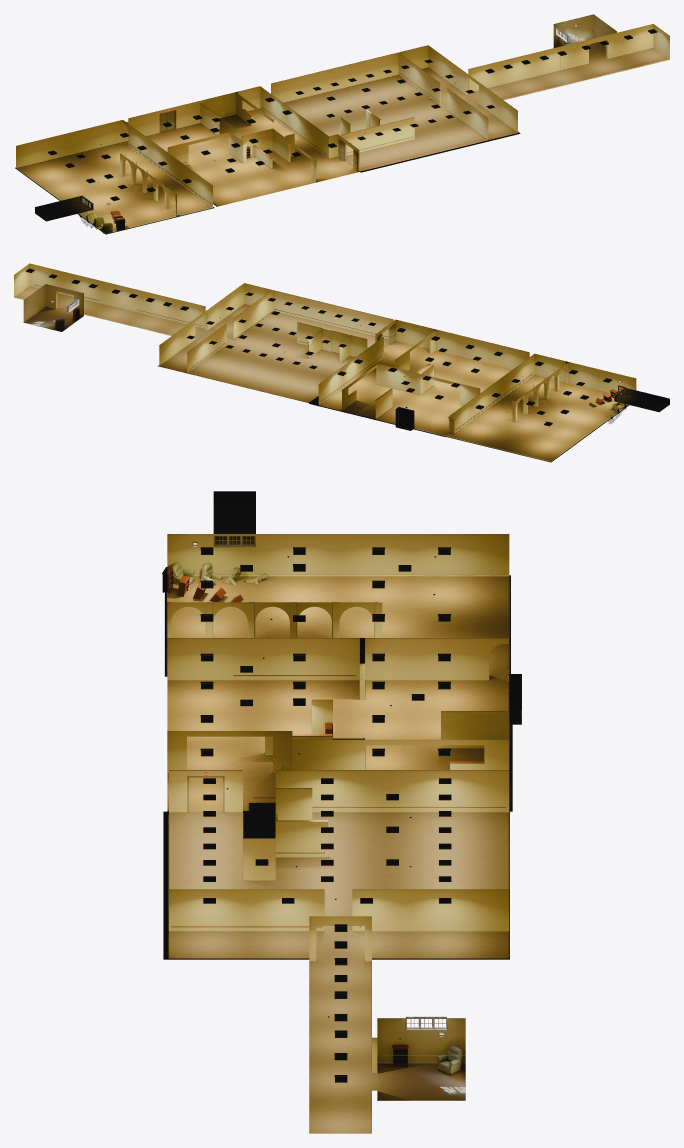
Rendered from backrooms_vr.glb.
The picture shows the model from 3 angles, top to bottom: view 1: azimuth 30°, elevation 25°; view 2: azimuth 150°, elevation 25°; view 3: azimuth 270°, elevation 25°; orthographic projection. The views are drawn at different scales.
Visible parts, largest first — view 1: Object_24, Object_18, Object_30, Object_28, Object_38, Object_34, Object_14, Object_22, Object_52, Object_36, Object_42, Object_44 (+2 smaller); view 2: Object_24, Object_30, Object_18, Object_28, Object_38, Object_14, Object_34, Object_22, Object_52, Object_36, Object_42, Object_32 (+2 smaller); view 3: Object_24, Object_18, Object_28, Object_38, Object_30, Object_34, Object_22, Object_52, Object_14, Object_44, Object_32, Object_6 (+2 smaller).
Boxes of the visible parts, x1=… form: Object_24: x1=283, y1=67, x2=520, y2=172; Object_18: x1=271, y1=45, x2=517, y2=155; Object_30: x1=15, y1=141, x2=214, y2=234; Object_28: x1=126, y1=108, x2=358, y2=206; Object_38: x1=125, y1=86, x2=359, y2=181; Object_34: x1=16, y1=120, x2=212, y2=221; Object_14: x1=468, y1=14, x2=669, y2=94; Object_22: x1=468, y1=38, x2=668, y2=102; Object_52: x1=48, y1=30, x2=656, y2=200; Object_36: x1=16, y1=14, x2=669, y2=233; Object_42: x1=129, y1=58, x2=665, y2=203; Object_44: x1=79, y1=37, x2=570, y2=233; Object_24: x1=158, y1=304, x2=389, y2=403; Object_30: x1=446, y1=374, x2=629, y2=462; Object_18: x1=159, y1=283, x2=393, y2=372; Object_28: x1=309, y1=341, x2=512, y2=437; Object_38: x1=318, y1=319, x2=529, y2=432; Object_14: x1=14, y1=263, x2=205, y2=330; Object_34: x1=449, y1=353, x2=669, y2=433; Object_22: x1=15, y1=286, x2=205, y2=338; Object_52: x1=26, y1=269, x2=611, y2=426; Object_36: x1=14, y1=285, x2=628, y2=461; Object_42: x1=34, y1=284, x2=532, y2=430; Object_32: x1=49, y1=274, x2=584, y2=414; Object_24: x1=163, y1=811, x2=509, y2=959; Object_18: x1=169, y1=770, x2=509, y2=931; Object_28: x1=167, y1=677, x2=512, y2=811; Object_38: x1=167, y1=638, x2=521, y2=772; Object_30: x1=164, y1=575, x2=510, y2=677; Object_34: x1=167, y1=491, x2=509, y2=637; Object_22: x1=309, y1=959, x2=465, y2=1133; Object_52: x1=200, y1=549, x2=451, y2=1082; Object_14: x1=309, y1=916, x2=465, y2=1072; Object_44: x1=171, y1=562, x2=463, y2=1075; Object_32: x1=240, y1=565, x2=424, y2=1060; Object_6: x1=162, y1=567, x2=408, y2=1067.
Bounding box in the file's own units: 80.54 × 4.09 × 20.36.
Materials: 28 (27 with a texture image).
